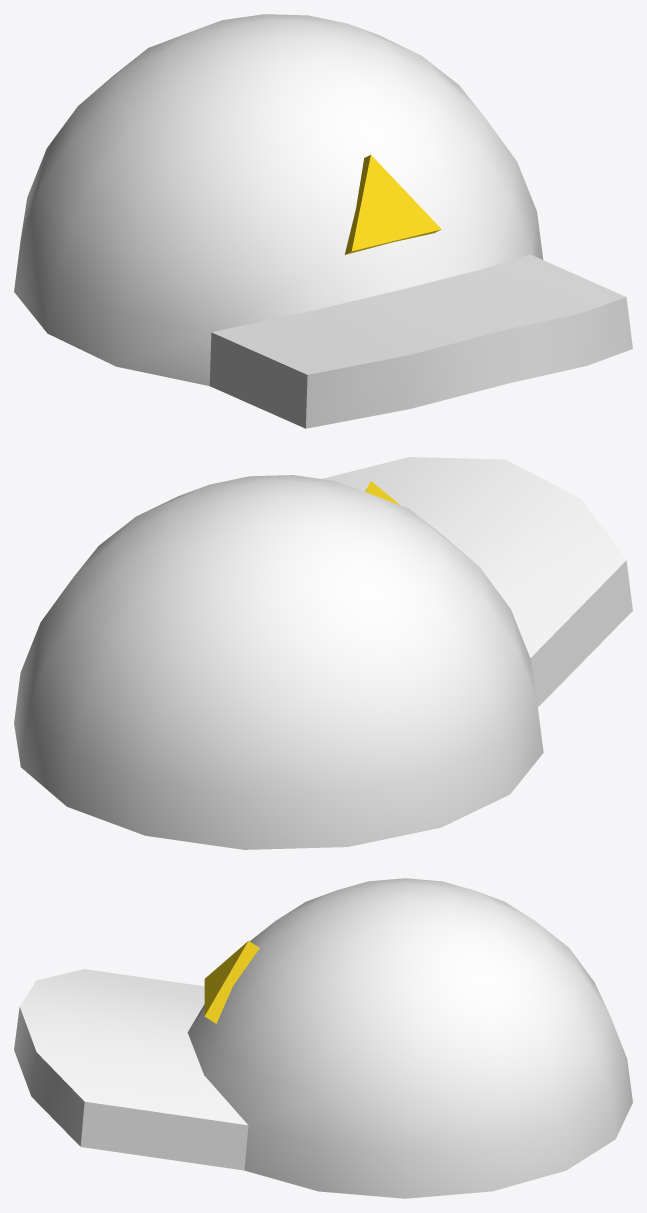
File: Head_Prop_Cap_01.fbx
3 renders of one model, top to bottom at view 1: azimuth 30°, elevation 25°; view 2: azimuth 150°, elevation 25°; view 3: azimuth 270°, elevation 25°, orthographic. The views are drawn at different scales.
Parts seen in each view (by area): view 1: Head_Prop_Cap_01; view 2: Head_Prop_Cap_01; view 3: Head_Prop_Cap_01.
Part boxes in pixels (x1=…): Head_Prop_Cap_01: x1=14, y1=14, x2=632, y2=428; Head_Prop_Cap_01: x1=14, y1=457, x2=632, y2=849; Head_Prop_Cap_01: x1=14, y1=878, x2=632, y2=1198.
Bounding box in the file's own units: 111 × 54.95 × 151.
